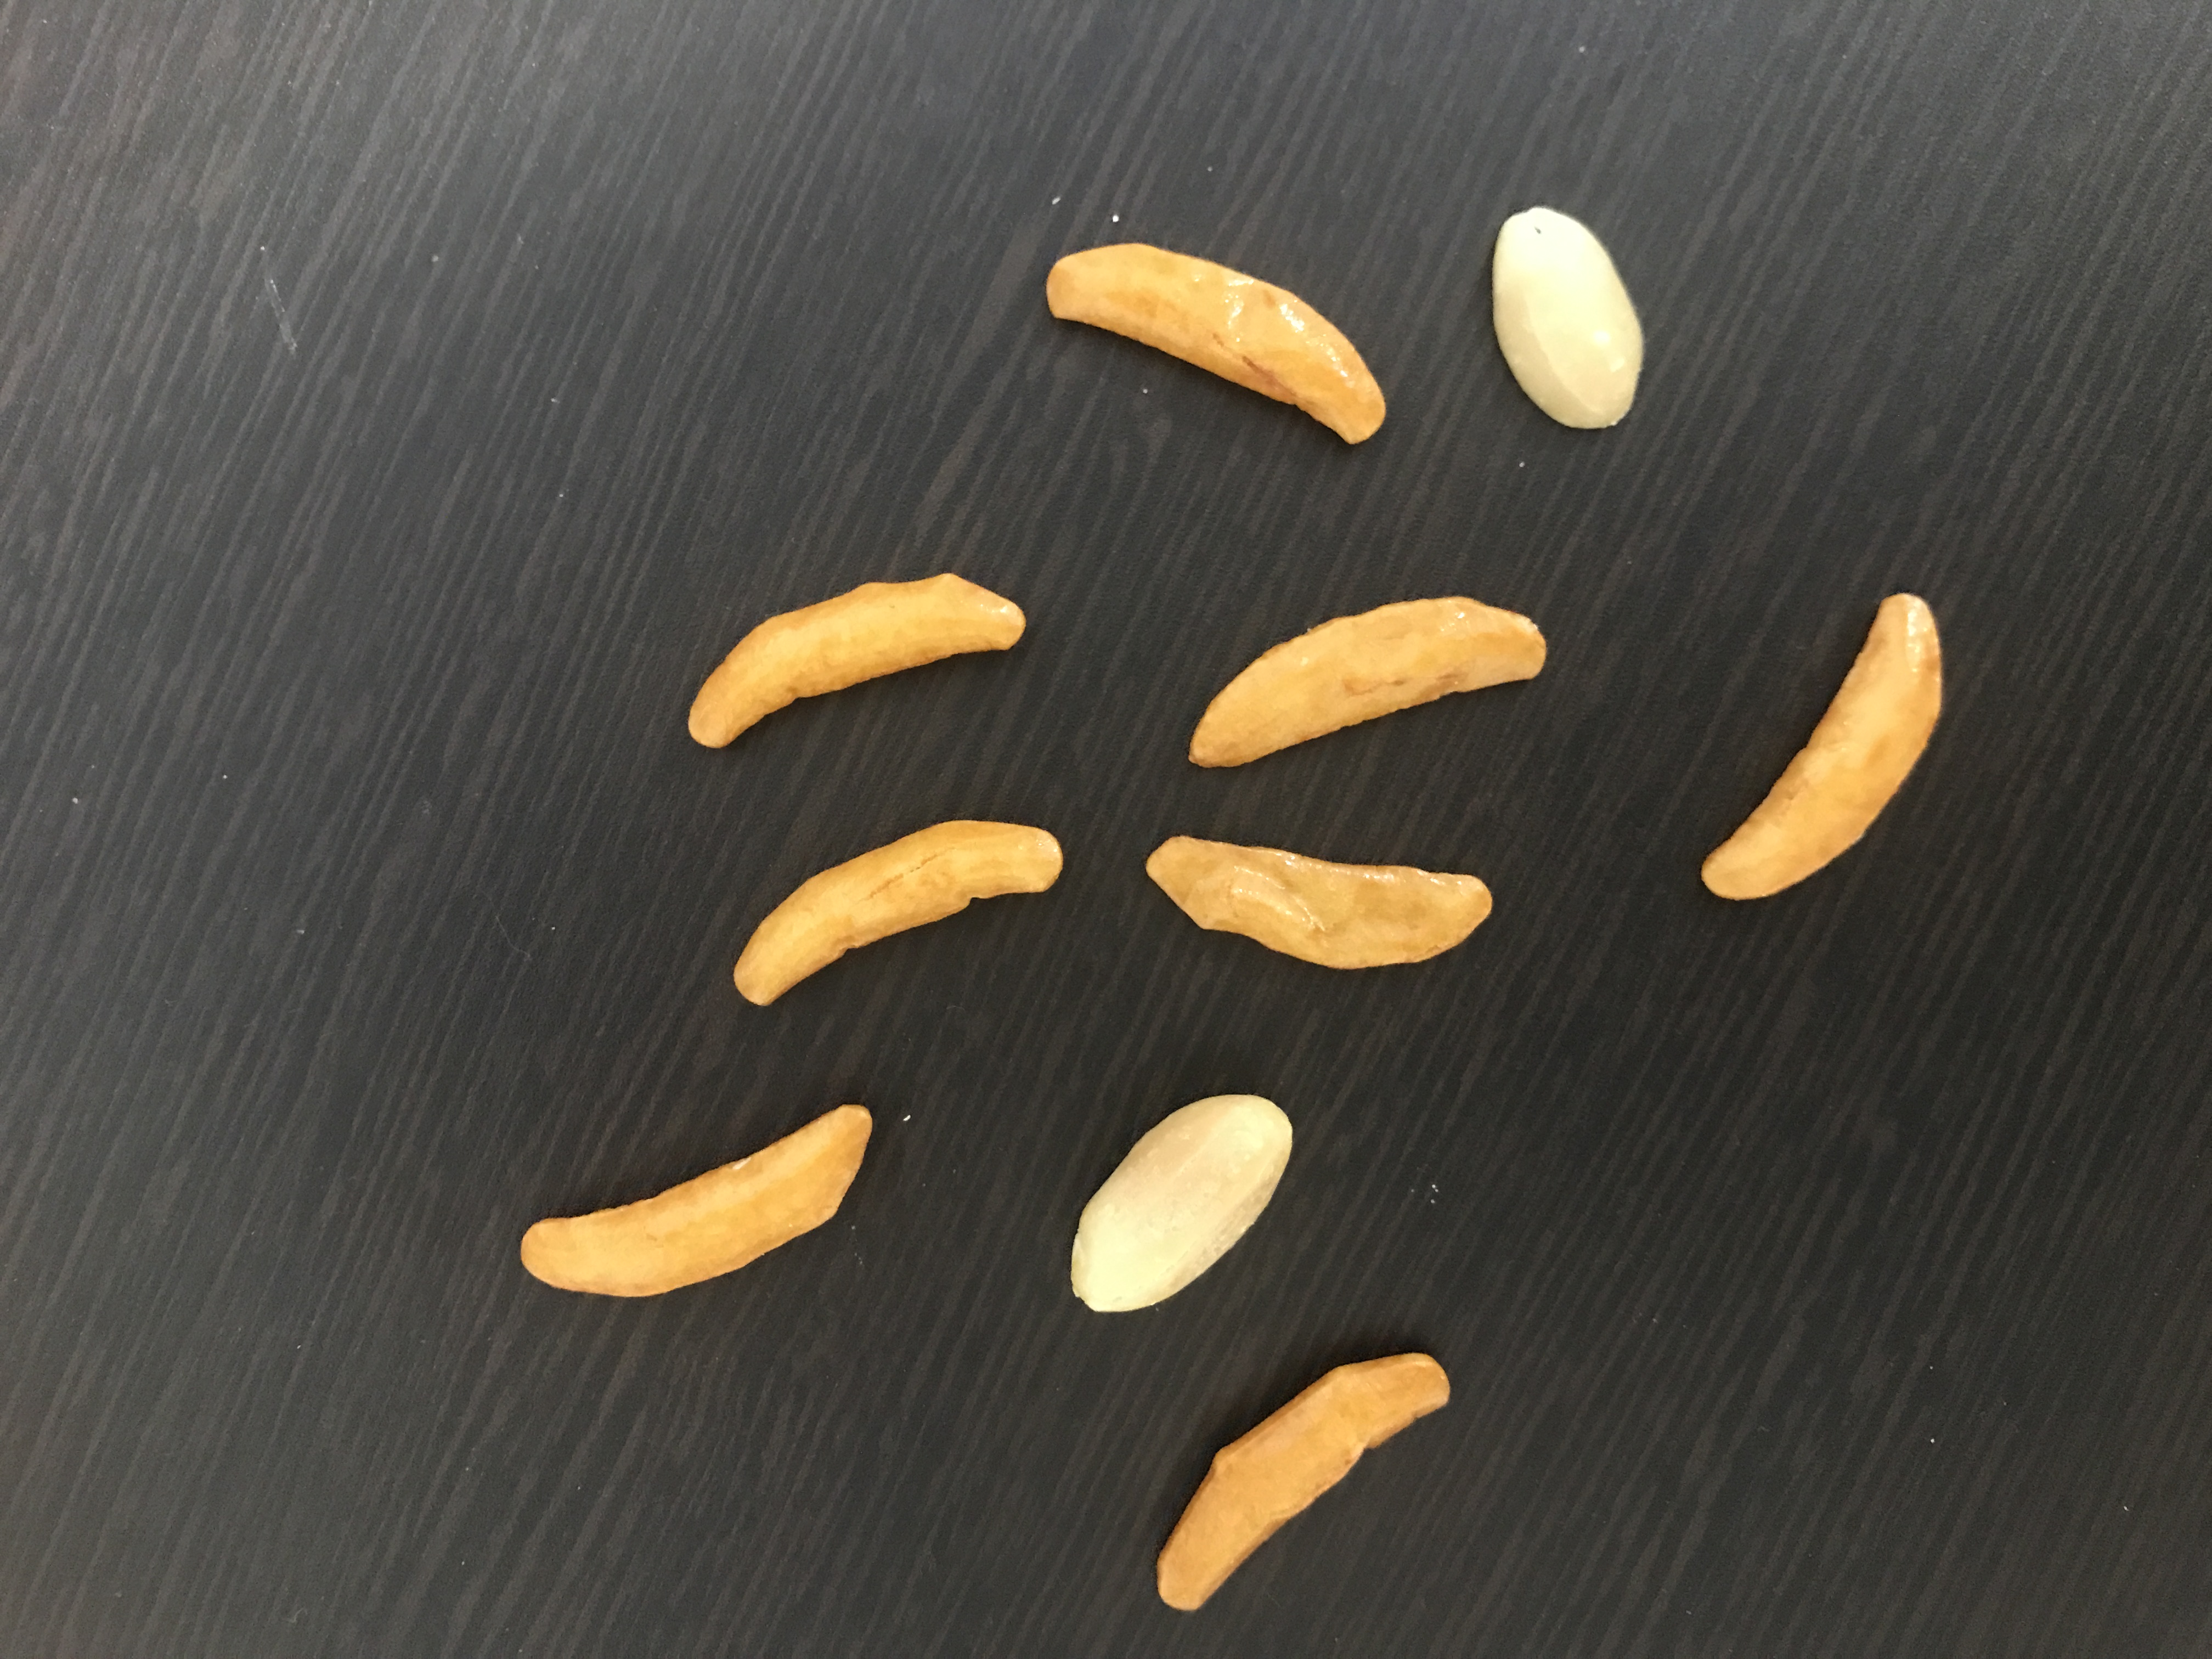peanut: (1061, 1086, 1305, 1317), (1482, 200, 1658, 439)
